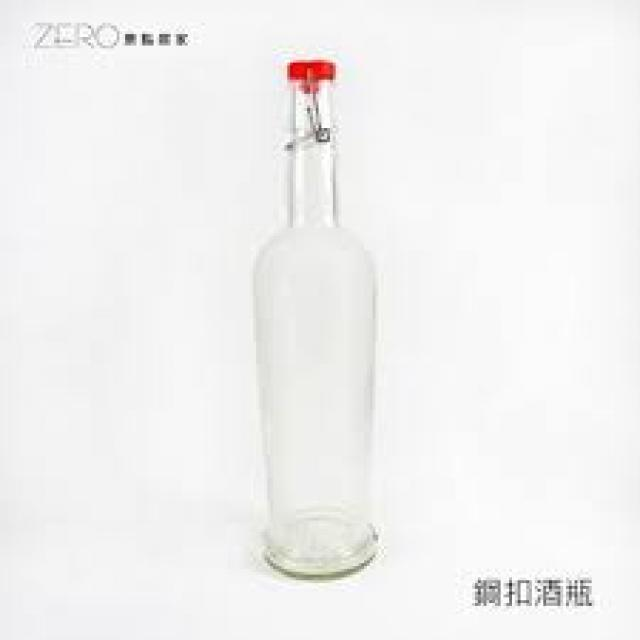Glass-Non-Biodegradable but Recyclable-: (254, 65, 382, 581)
